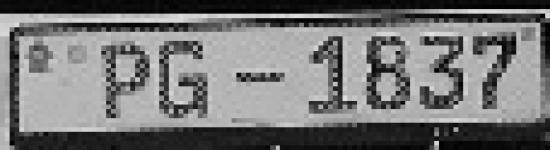-: (234, 67, 288, 88)
1: (300, 31, 363, 115)
3: (418, 33, 468, 111)
7: (472, 32, 522, 109)
8: (366, 33, 415, 114)
G: (154, 38, 219, 122)
P: (98, 38, 152, 121)
